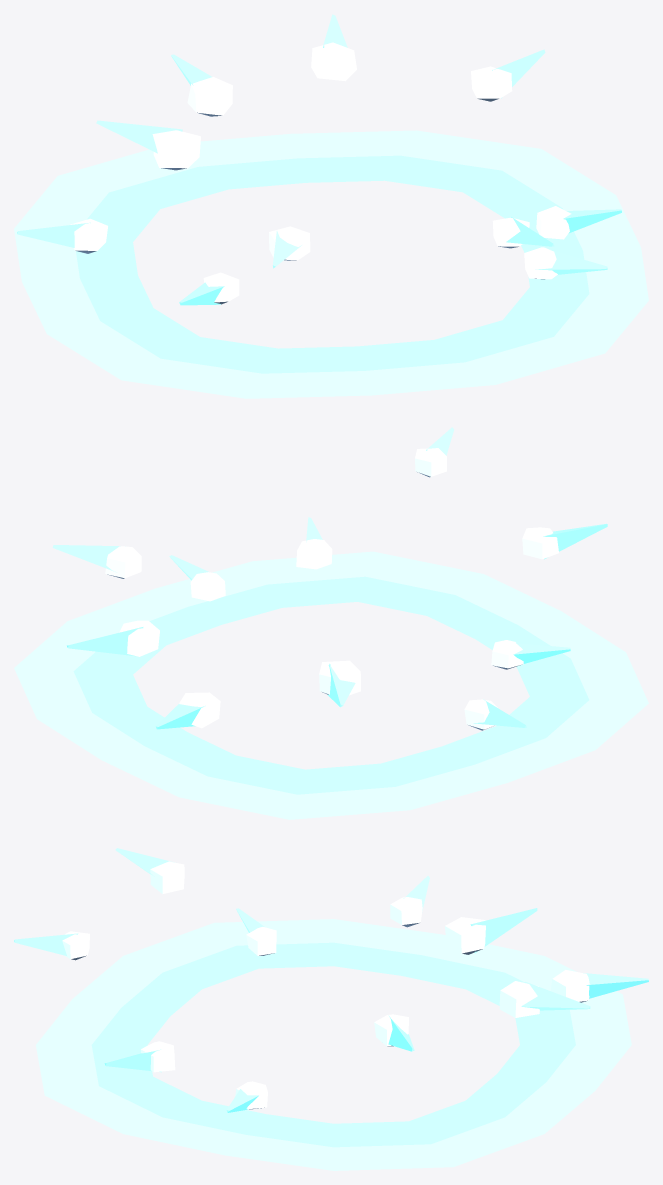
Rendered from comet_cloud.glb.
3 views of the same model, one above another, from view 1: azimuth 30°, elevation 25°; view 2: azimuth 150°, elevation 25°; view 3: azimuth 270°, elevation 25° (orthographic). The views are drawn at different scales.
Visible parts, largest first — view 1: body; view 2: body; view 3: body.
Boxes of the visible parts, x1,y1,x2,y2 form: body: (14,14,648,398); body: (14,427,648,819); body: (14,848,648,1170).
Bounding box in the file's own units: 192 × 45.82 × 205.
